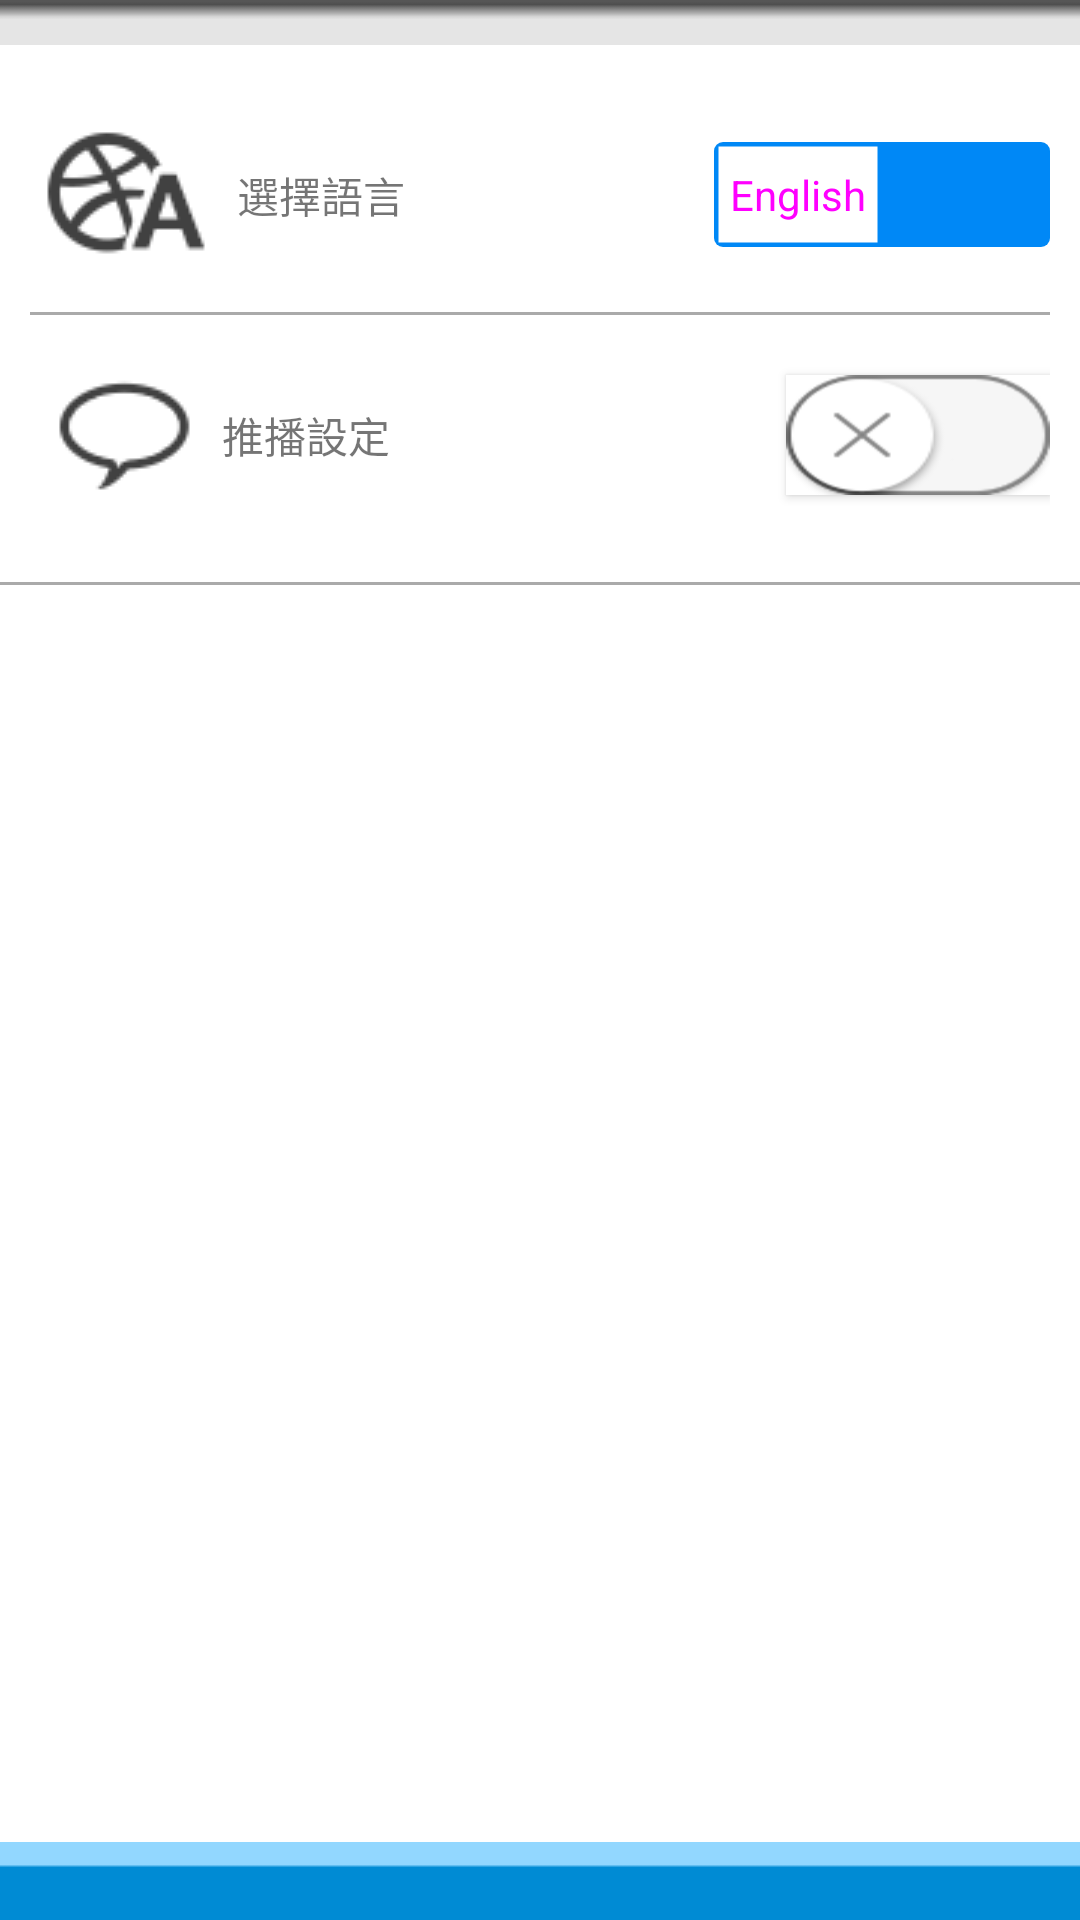

Icons on this 1080×1920 Android screen, each with the point to tap as (x,y):
settingicon language: (126,193)
settingicon push: (124,436)
